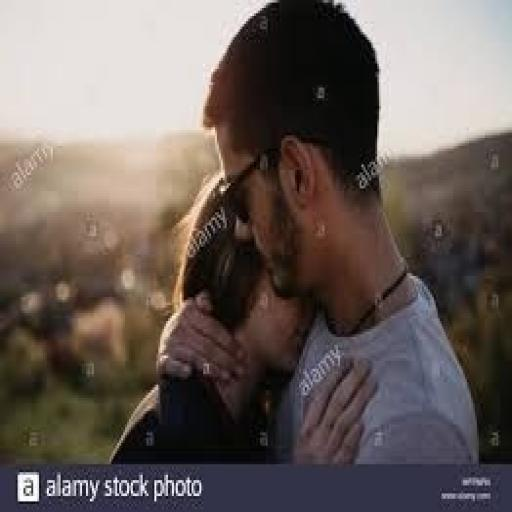hugging: (108, 0, 482, 467)
